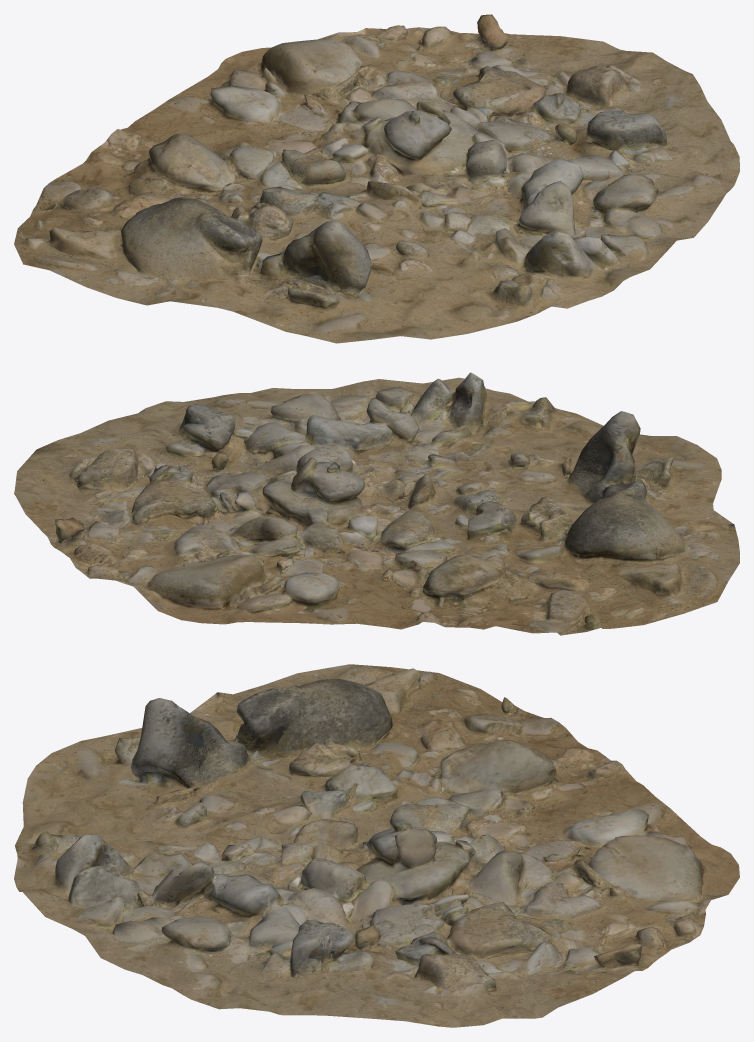
3 renders of one model, top to bottom at view 1: azimuth 30°, elevation 25°; view 2: azimuth 150°, elevation 25°; view 3: azimuth 270°, elevation 25°, orthographic. The views are drawn at different scales.
Visible parts, largest first — view 1: sand_rocks_small_01_lod0; view 2: sand_rocks_small_01_lod0; view 3: sand_rocks_small_01_lod0.
Boxes of the visible parts, x1,y1,x2,y2 form: sand_rocks_small_01_lod0: (14, 14, 739, 343); sand_rocks_small_01_lod0: (14, 372, 739, 635); sand_rocks_small_01_lod0: (14, 664, 739, 1027).
Size of the model in its own units: 4.63 by 0.5337 by 3.88.
1 material, 1 textured.
